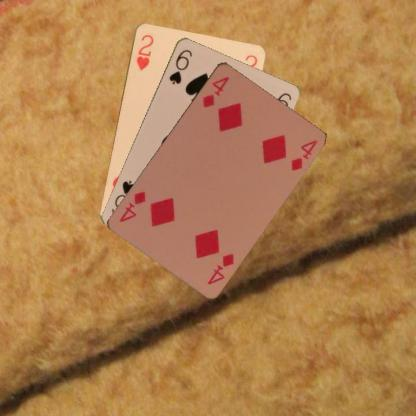2h: (133, 31, 155, 71)
4d: (205, 250, 235, 286), (200, 74, 231, 108)
6s: (166, 46, 194, 86)
